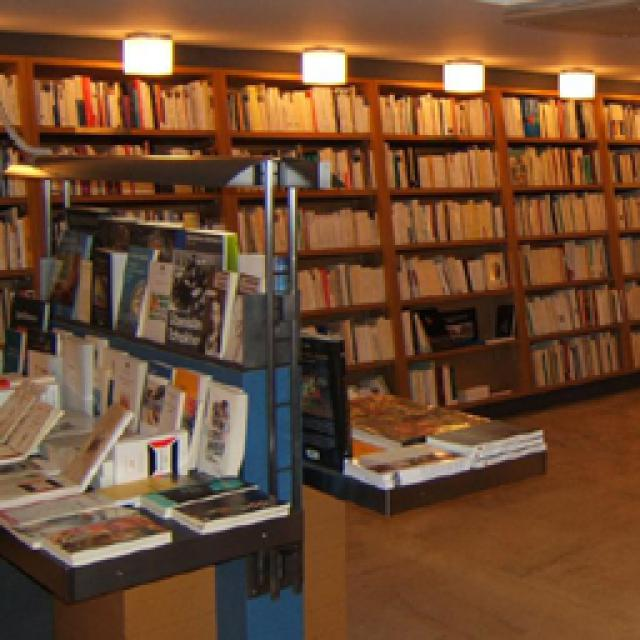book case: (35, 510, 170, 565), (162, 260, 240, 355), (55, 398, 130, 492), (165, 482, 288, 532), (345, 438, 468, 488), (192, 380, 245, 475), (88, 242, 128, 330), (135, 255, 172, 342), (60, 330, 90, 418), (490, 300, 512, 335)
book stand: (0, 155, 548, 635)
bookcase crop: (0, 55, 632, 495)
books crop: (228, 80, 365, 128), (425, 418, 545, 468), (390, 195, 505, 240), (398, 248, 505, 295), (380, 88, 492, 132), (528, 332, 618, 385), (385, 142, 495, 185), (35, 70, 125, 122), (518, 238, 605, 282), (528, 285, 612, 330), (135, 80, 212, 128), (515, 192, 602, 232), (508, 145, 598, 182), (298, 208, 378, 248), (5, 395, 58, 455), (402, 308, 438, 355)
ceiling beam: (2, 0, 635, 82)
floor -X: (2, 382, 635, 638)
lamp crop: (120, 35, 172, 75), (300, 50, 345, 82), (440, 60, 482, 92), (555, 68, 592, 98)
wall clock: (0, 28, 635, 495)
